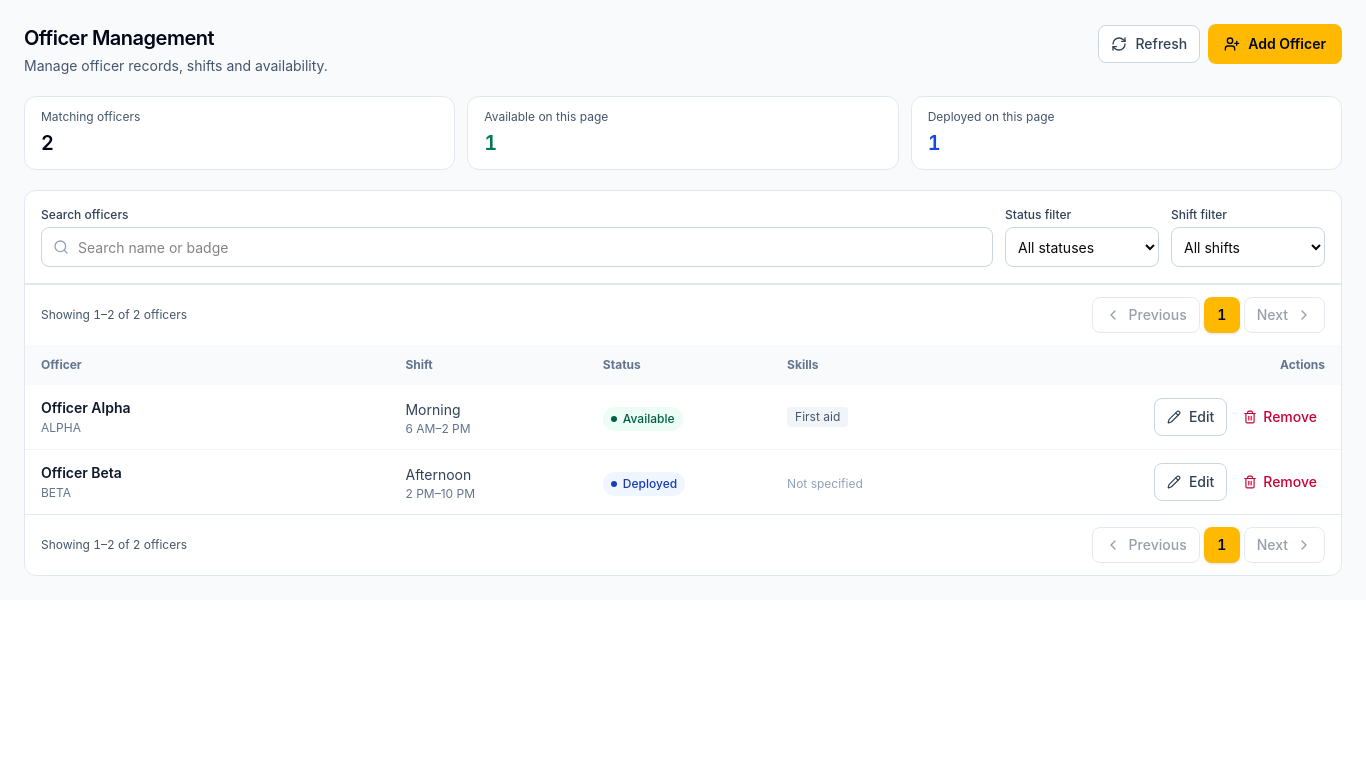
points to an incomplete required field without sending a create request
The width and height of the screenshot is (1366, 768).
Expected: the button with aria-label "Edit Officer Alpha" is shown, [1154,398,1227,436]
Click the button "Add Officer".
click(1275, 44)  # box [1208,24,1342,64]
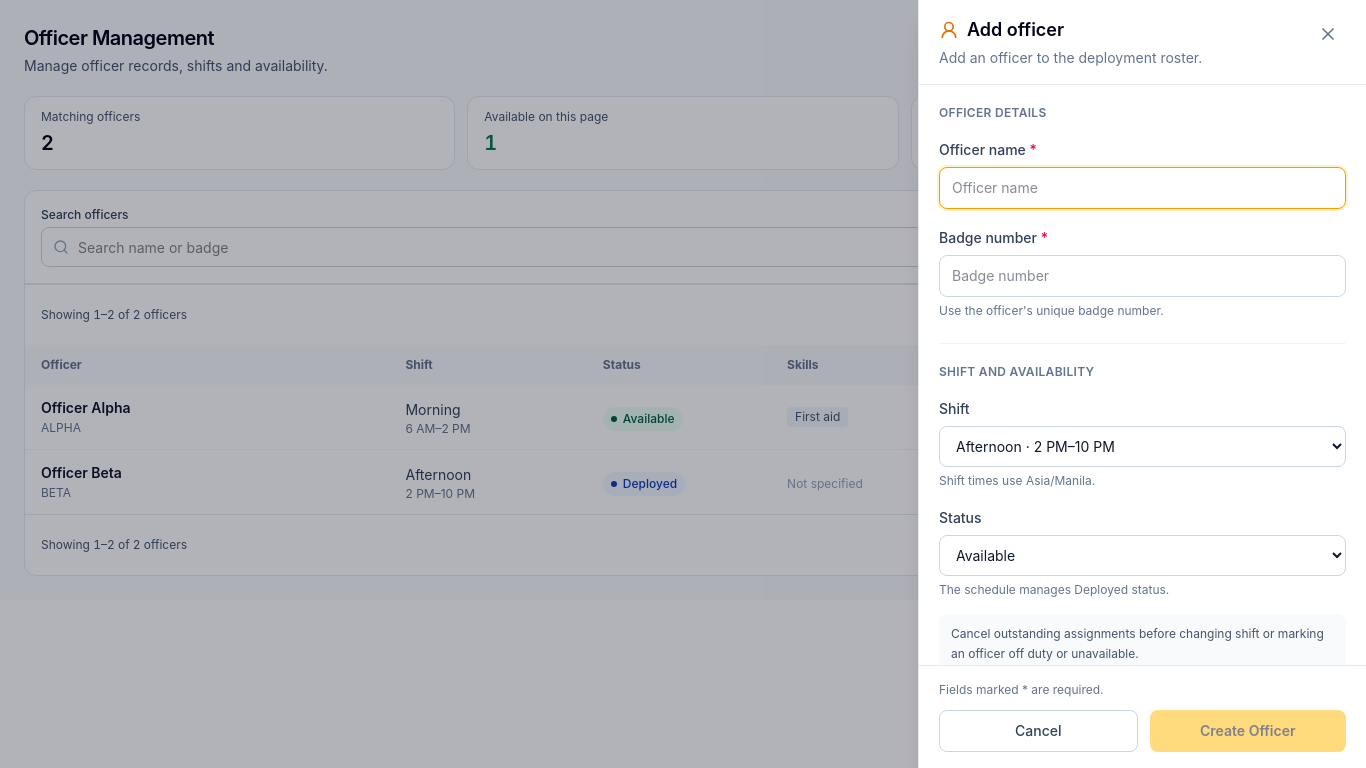
Type "NEW" into the field labelled "Badge number *".
click(1142, 276); type("NEW")  # box [939,255,1346,297]
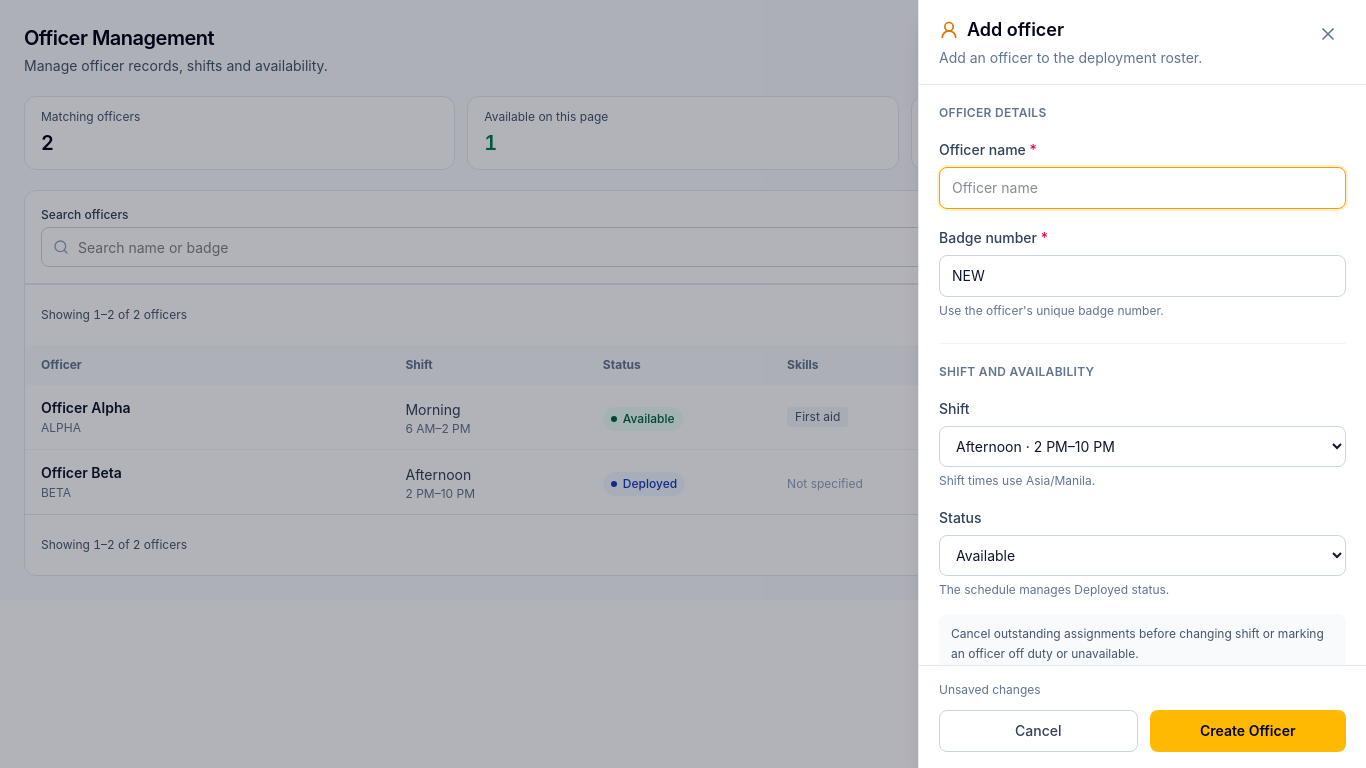
Click the button "Create Officer".
click(1248, 731)  # box [1150,710,1346,752]
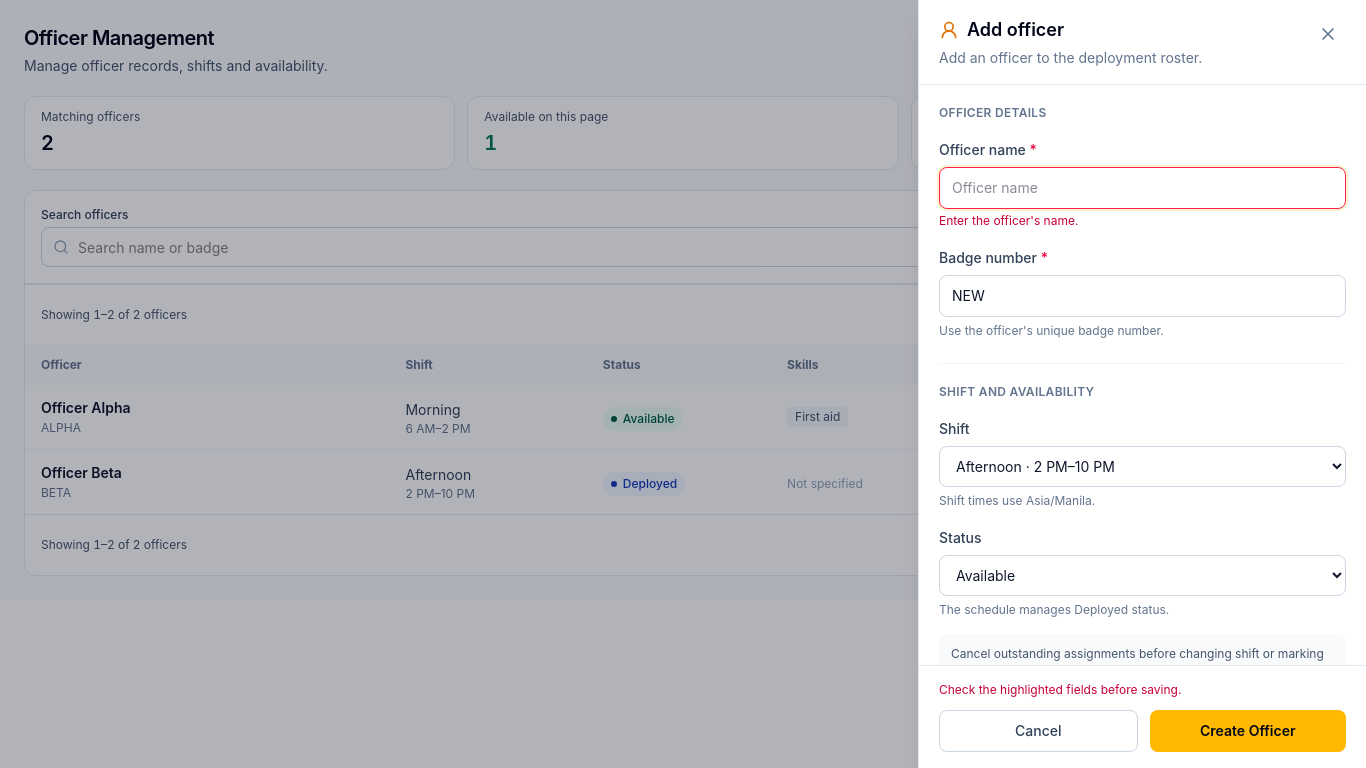
Now the text "Enter the officer's name." is shown, box [939,213,1078,228]
